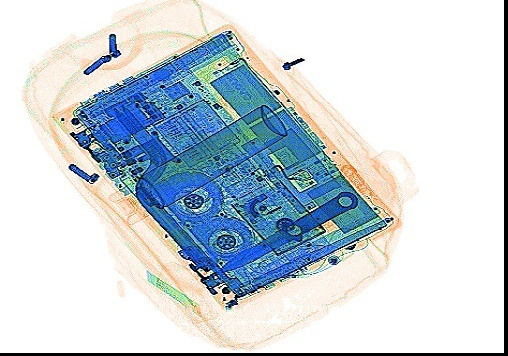knife: (208, 190, 359, 274)
pressure: (108, 103, 288, 225)
